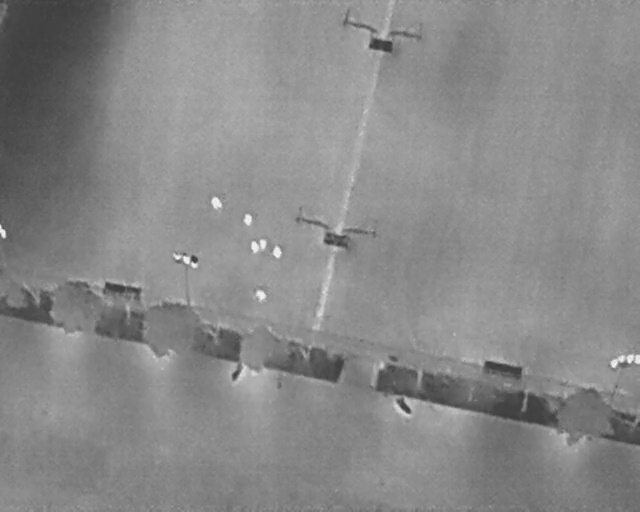Person: (211, 196, 223, 210), (256, 289, 267, 302), (258, 238, 268, 252), (273, 245, 283, 259), (243, 213, 253, 226), (250, 240, 259, 253)
